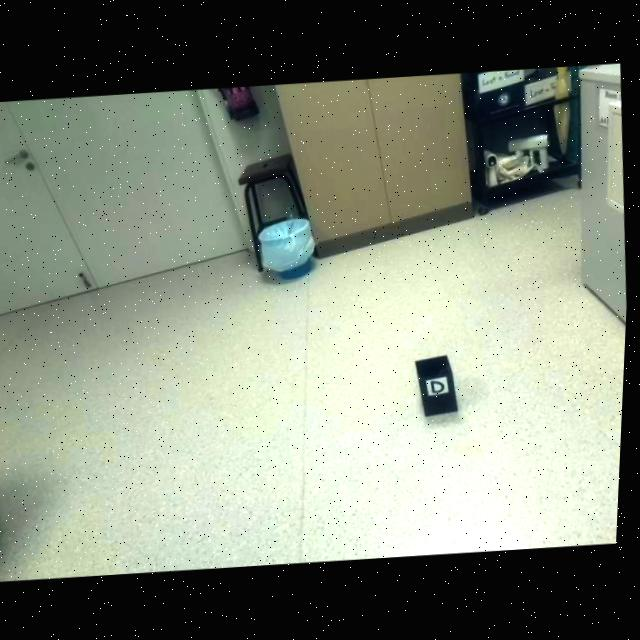D: (433, 379, 448, 394)
